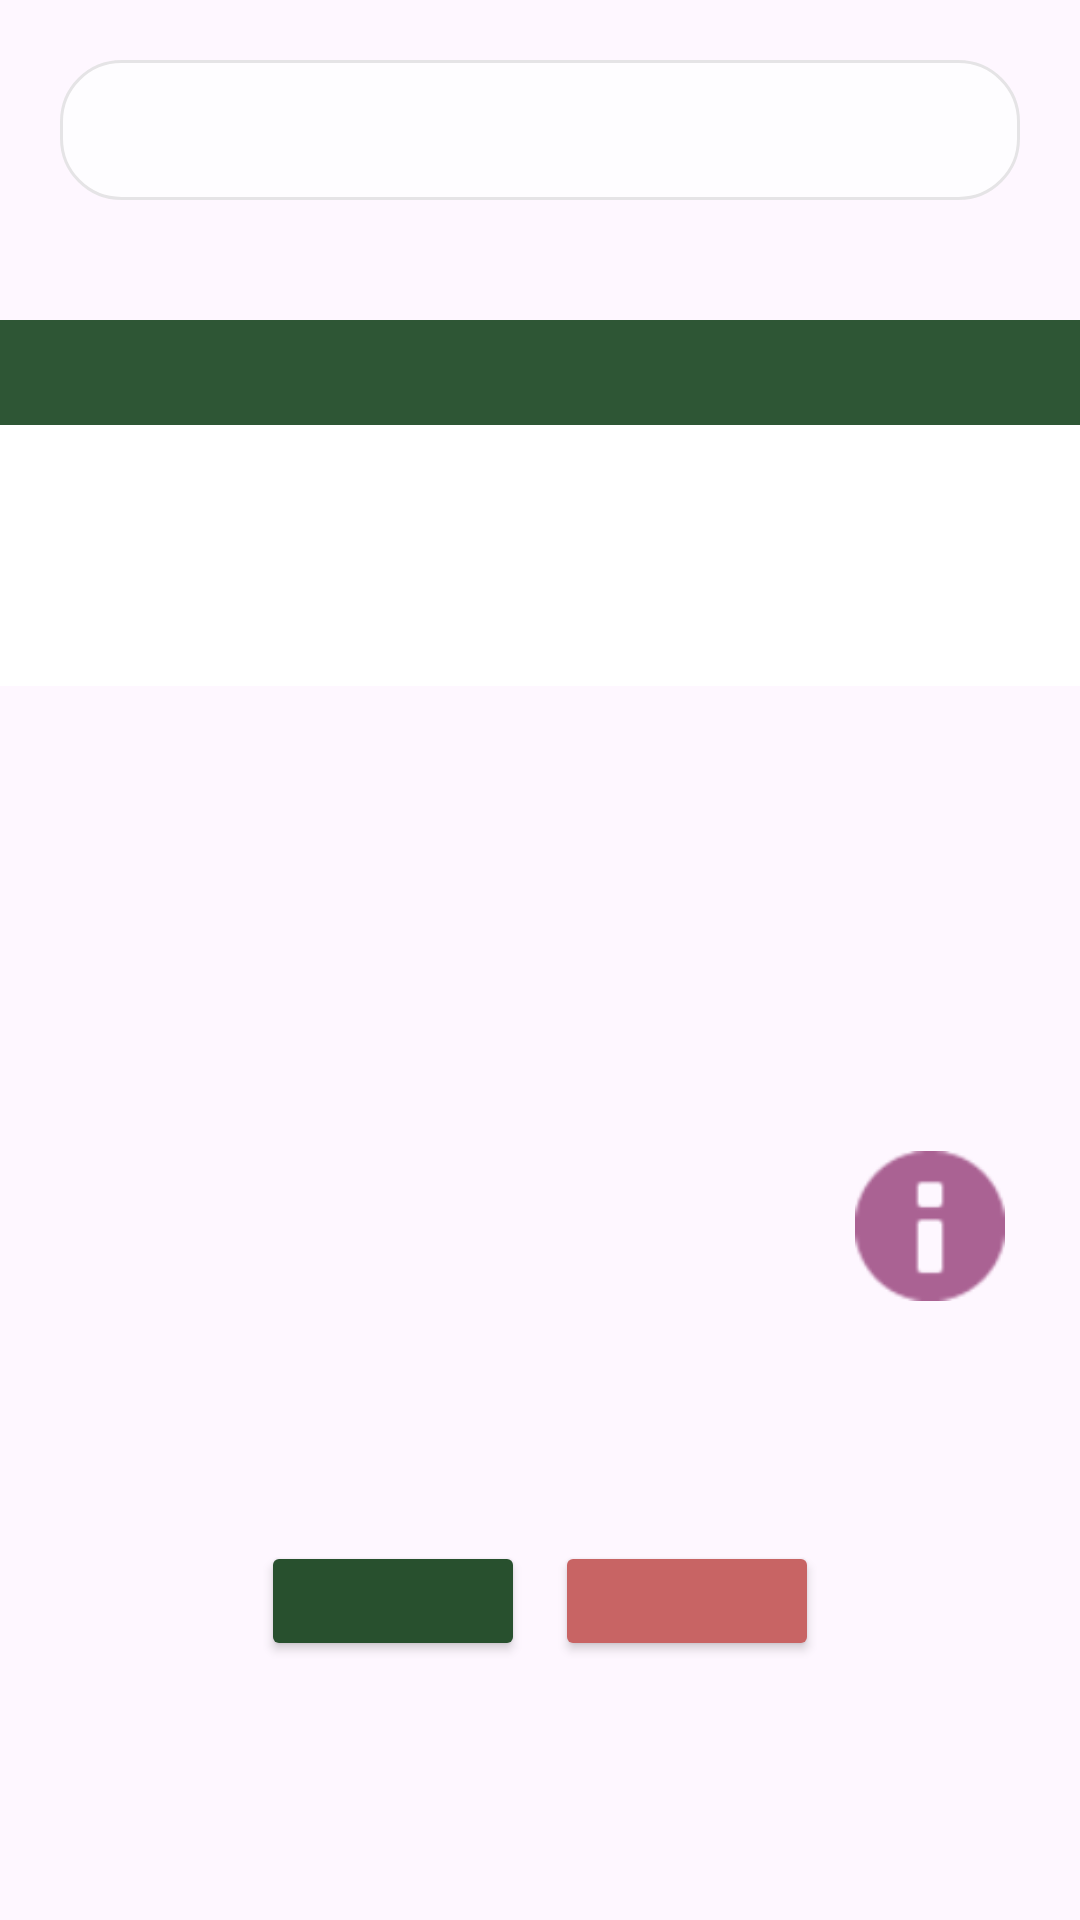

Icons on this 1080w x 1920h Android screen, each with its box as (left=x1, top=y1, right=x2, bottom=y2):
info: (left=855, top=1151, right=1005, bottom=1301)
